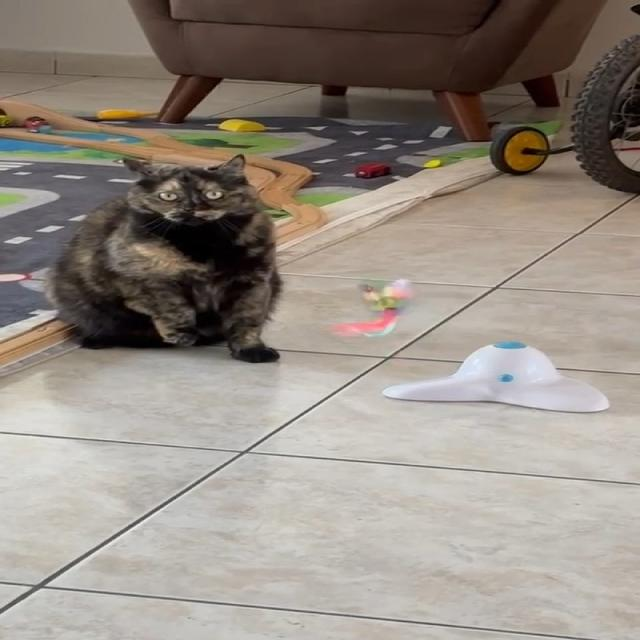authorized: (41, 152, 284, 363)
